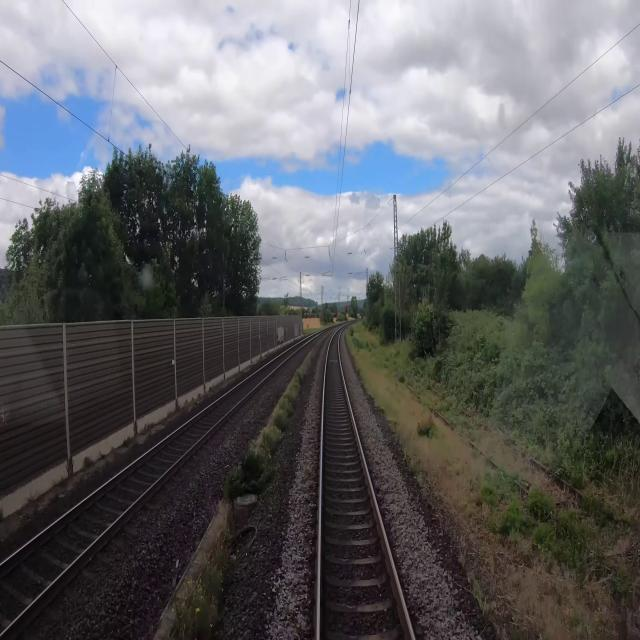Plant: (224, 365, 305, 501), (174, 524, 234, 639)
